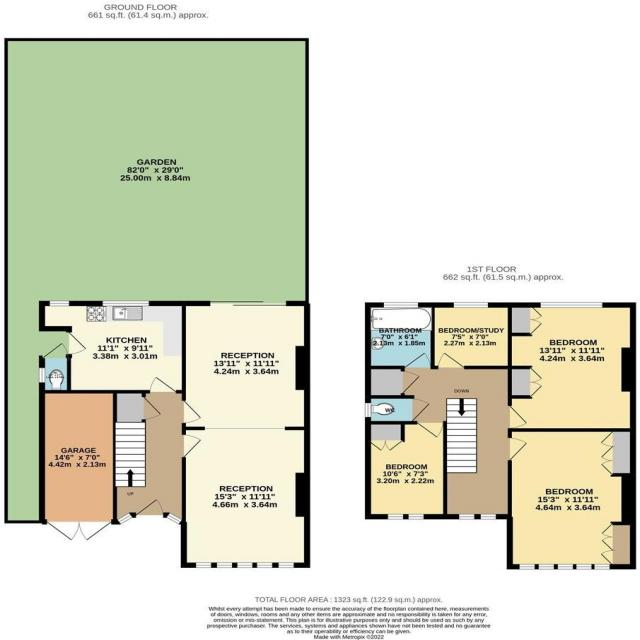DOOR: (181, 433, 203, 459), (135, 498, 164, 517), (181, 399, 203, 424), (66, 331, 88, 355), (437, 351, 465, 369), (416, 421, 444, 439), (508, 404, 528, 428), (508, 437, 528, 461), (148, 376, 176, 393)
ROOM: (181, 300, 310, 569), (507, 428, 636, 570), (508, 302, 636, 432), (39, 300, 187, 393), (365, 421, 447, 519), (430, 302, 512, 370)
WINDOW: (540, 302, 603, 308), (102, 300, 150, 307), (116, 512, 134, 525), (452, 302, 489, 308), (165, 512, 182, 525), (383, 302, 419, 308), (49, 300, 70, 307), (215, 562, 233, 569), (457, 513, 475, 520), (518, 563, 536, 570), (195, 562, 212, 569), (479, 513, 496, 520), (276, 562, 295, 568), (408, 513, 424, 520), (255, 562, 273, 568), (386, 514, 404, 520), (537, 564, 555, 570), (236, 562, 253, 568), (575, 564, 592, 570), (593, 564, 610, 570), (557, 564, 573, 570), (365, 402, 371, 417)
